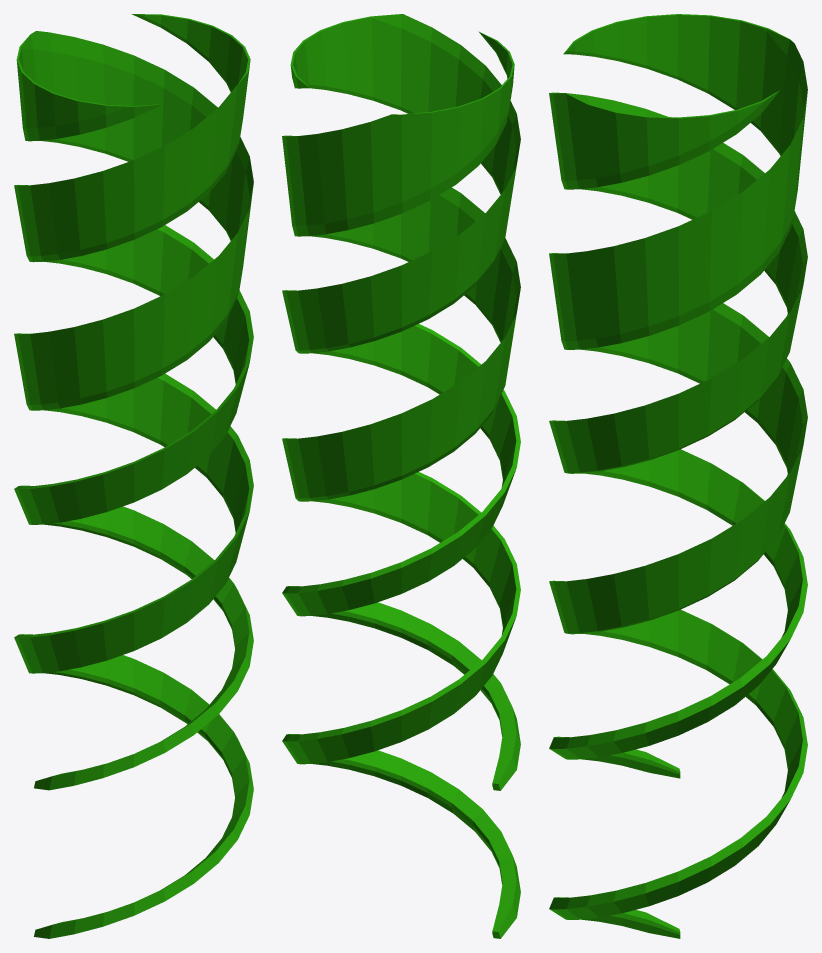
File: Vegetation_Verdant_Grass_Topiary_Spiral_Medium_01.FBX
3 renders of one model, left to right at view 1: azimuth 30°, elevation 25°; view 2: azimuth 150°, elevation 25°; view 3: azimuth 270°, elevation 25°, orthographic. The views are drawn at different scales.
Visible parts, largest first — view 1: Vegetation_Verdant_Grass_Topiary_Spiral_Medium_01; view 2: Vegetation_Verdant_Grass_Topiary_Spiral_Medium_01; view 3: Vegetation_Verdant_Grass_Topiary_Spiral_Medium_01.
Part boxes in pixels (bbox=[...]): Vegetation_Verdant_Grass_Topiary_Spiral_Medium_01: bbox=[14, 14, 253, 938]; Vegetation_Verdant_Grass_Topiary_Spiral_Medium_01: bbox=[282, 14, 520, 938]; Vegetation_Verdant_Grass_Topiary_Spiral_Medium_01: bbox=[549, 14, 807, 938].
Size of the model in its own units: 1334 by 5238 by 1334.
